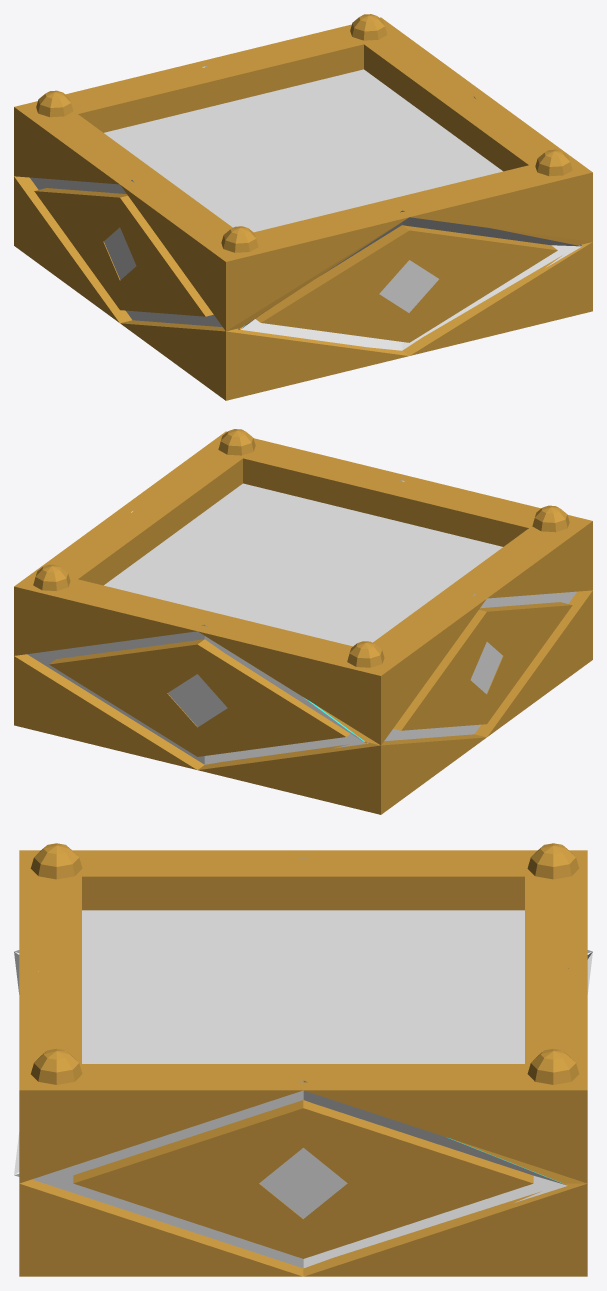
The model's file is Pyramid_Pool.fbx.
The picture shows the model from 3 angles, top to bottom: view 1: azimuth 30°, elevation 25°; view 2: azimuth 150°, elevation 25°; view 3: azimuth 270°, elevation 25°; orthographic projection. The views are drawn at different scales.
Parts seen in each view (by area): view 1: Pyramid_pool, PyramidPool_mask, Pyramid_lightmask; view 2: Pyramid_pool, PyramidPool_mask, Pyramid_lightmask; view 3: Pyramid_pool, PyramidPool_mask, Pyramid_lightmask.
Boxes of the visible parts, left/top/right/bottom form: Pyramid_pool: left=14, top=14, right=592, bottom=400; PyramidPool_mask: left=104, top=69, right=502, bottom=232; Pyramid_lightmask: left=30, top=66, right=581, bottom=350; Pyramid_pool: left=14, top=429, right=592, bottom=814; PyramidPool_mask: left=104, top=483, right=502, bottom=646; Pyramid_lightmask: left=27, top=480, right=576, bottom=764; Pyramid_pool: left=19, top=843, right=587, bottom=1276; PyramidPool_mask: left=82, top=910, right=524, bottom=1063; Pyramid_lightmask: left=14, top=857, right=592, bottom=1268.
Size of the model in its own units: 521 by 211 by 526.
